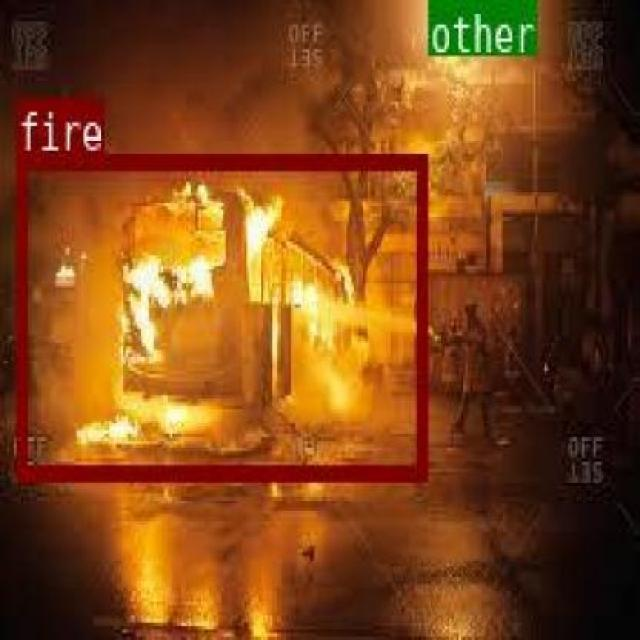Fire: (14, 151, 426, 477)
